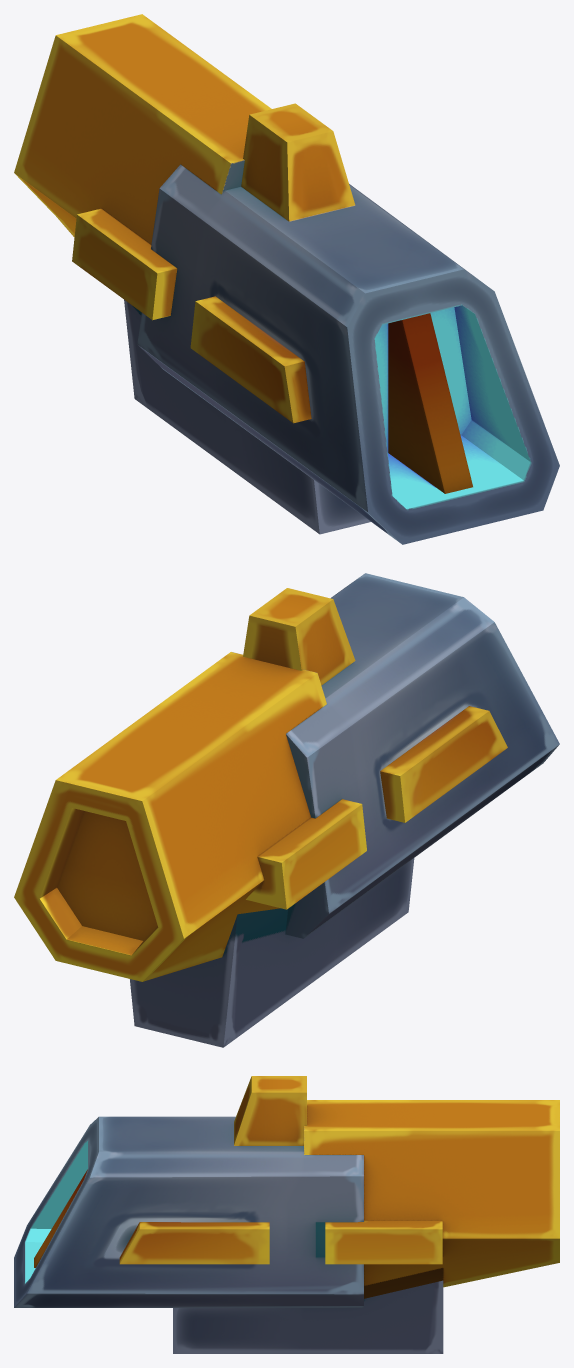
The model's file is weapon_SpreadShot.fbx.
3 views of the same model, one above another, from view 1: azimuth 30°, elevation 25°; view 2: azimuth 150°, elevation 25°; view 3: azimuth 270°, elevation 25° (orthographic). The views are drawn at different scales.
Visible parts, largest first — view 1: spreadshot_barrel, spreadshot_knobs, spreadshot_attachment; view 2: spreadshot_attachment, spreadshot_barrel, spreadshot_knobs; view 3: spreadshot_barrel, spreadshot_attachment, spreadshot_knobs.
Part boxes in pixels (x1,y1,x2,y2): spreadshot_barrel: (137,164,559,544); spreadshot_knobs: (72,103,472,534); spreadshot_attachment: (14,14,271,244); spreadshot_attachment: (14,652,326,981); spreadshot_barrel: (285,573,559,938); spreadshot_knobs: (130,588,507,1047); spreadshot_barrel: (14,1116,363,1307); spreadshot_attachment: (304,1100,559,1298); spreadshot_knobs: (34,1076,443,1353).
Size of the model in its own units: 0.5015 by 0.7755 by 1.51.
